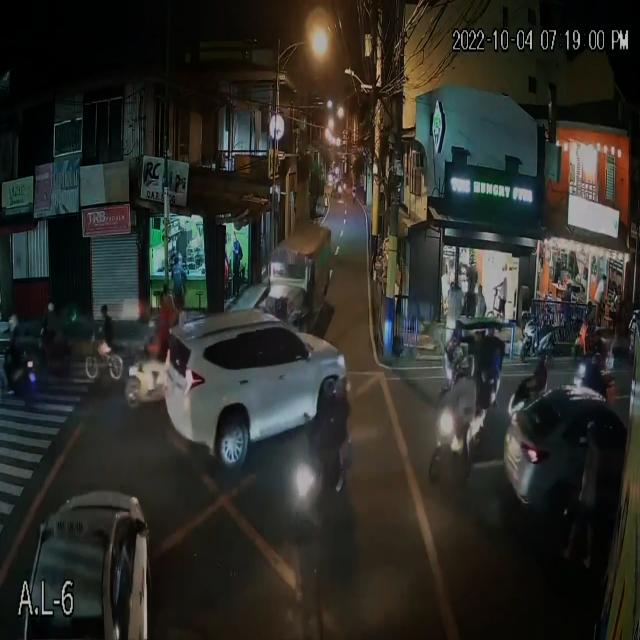Full-Faced: (332, 373, 351, 403), (591, 349, 604, 374), (536, 344, 548, 366)
